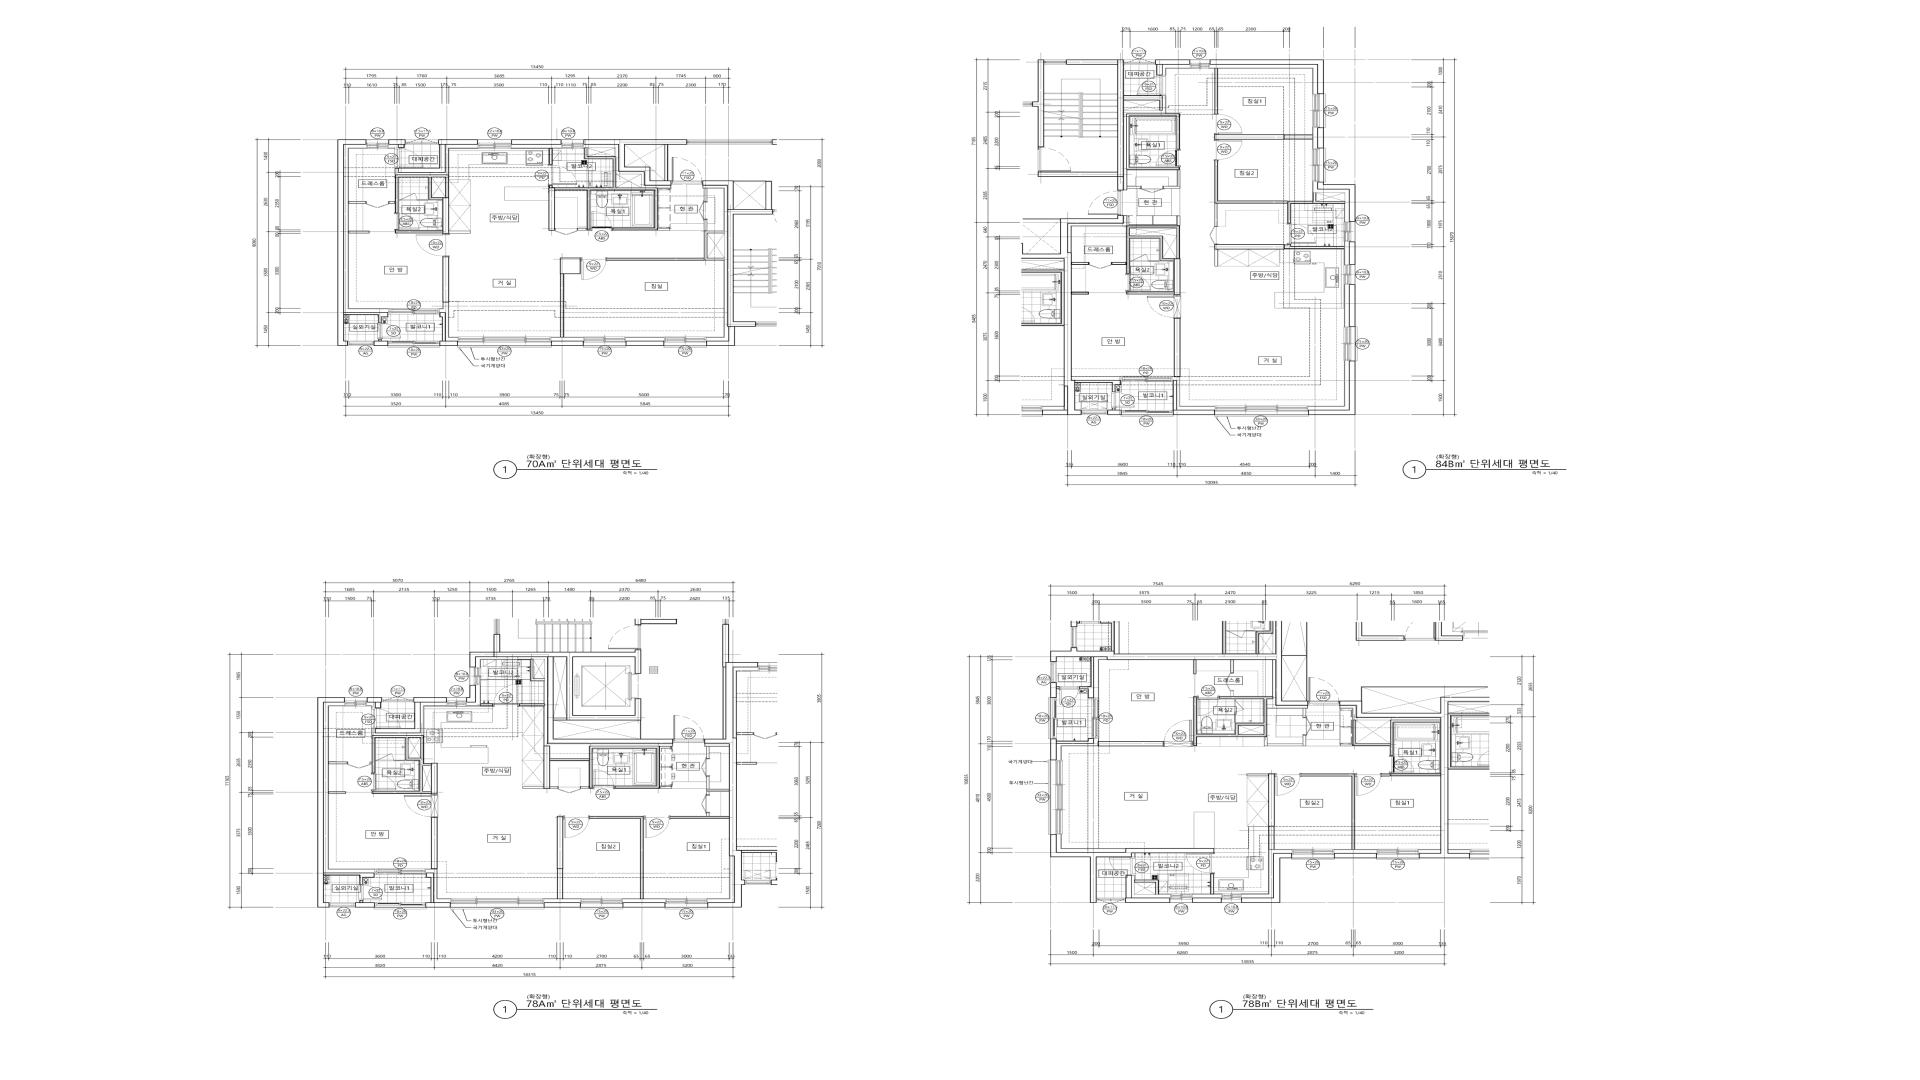door: (673, 715, 704, 741), (671, 157, 703, 183), (608, 625, 641, 650), (1088, 190, 1121, 215), (404, 794, 438, 818), (1163, 720, 1193, 746), (1308, 678, 1340, 703), (1147, 295, 1180, 319), (1038, 148, 1071, 171), (415, 233, 448, 257), (549, 165, 578, 186), (1185, 853, 1215, 874), (493, 684, 520, 707), (563, 816, 589, 839), (644, 816, 670, 839), (1288, 223, 1316, 244), (1215, 140, 1242, 161), (1215, 113, 1242, 135), (1137, 75, 1166, 95), (394, 148, 423, 167), (580, 258, 607, 280), (1275, 774, 1302, 795), (1356, 774, 1382, 795), (372, 708, 400, 728), (1109, 857, 1135, 876), (591, 211, 613, 231), (1197, 696, 1220, 716), (1156, 149, 1180, 167), (1390, 756, 1414, 774), (1126, 274, 1151, 291), (592, 770, 615, 789), (372, 774, 396, 791), (360, 885, 382, 901), (1112, 392, 1134, 407), (378, 323, 401, 339), (1059, 687, 1079, 704), (1225, 673, 1234, 691), (347, 762, 371, 769), (365, 202, 389, 208), (558, 786, 580, 793), (1089, 262, 1112, 269), (1141, 186, 1163, 193), (555, 228, 578, 235), (702, 758, 709, 777), (699, 202, 707, 220), (1303, 717, 1311, 736), (376, 753, 393, 761), (702, 795, 709, 812), (400, 193, 417, 200), (1209, 227, 1217, 244), (1130, 255, 1149, 261), (1234, 699, 1244, 712)
wall: (469, 634, 673, 744), (1051, 621, 1308, 705), (670, 624, 741, 907), (476, 657, 673, 758), (607, 186, 728, 342), (1340, 698, 1448, 858), (1038, 59, 1163, 190), (1060, 215, 1124, 415), (318, 698, 375, 907), (703, 181, 773, 345), (1051, 835, 1215, 903), (338, 140, 388, 345), (555, 145, 671, 231), (323, 703, 375, 873), (1215, 161, 1345, 223), (543, 746, 659, 789), (1112, 225, 1180, 295), (584, 140, 687, 186), (589, 816, 644, 899), (1302, 774, 1356, 849), (1193, 696, 1274, 746), (1124, 95, 1166, 190), (1209, 59, 1324, 94), (372, 736, 438, 794), (1211, 65, 1317, 94), (1126, 113, 1180, 170), (394, 140, 477, 175), (375, 698, 447, 733), (1241, 853, 1292, 903), (1308, 361, 1356, 415), (1241, 849, 1292, 898), (372, 703, 447, 736), (1267, 659, 1308, 717), (1068, 215, 1127, 253), (389, 175, 448, 214), (551, 274, 583, 342), (1308, 361, 1349, 410), (1317, 182, 1356, 222), (1172, 380, 1215, 415), (1340, 705, 1441, 720), (1312, 182, 1349, 222), (1172, 377, 1215, 410), (708, 856, 735, 903), (1125, 876, 1170, 903), (1056, 835, 1126, 852), (1282, 655, 1307, 700), (1033, 59, 1044, 148), (512, 145, 562, 165), (1051, 738, 1095, 761), (1056, 738, 1098, 761), (426, 873, 451, 907), (1131, 876, 1170, 898), (426, 869, 451, 902), (439, 302, 458, 342), (1215, 244, 1345, 249), (439, 313, 458, 345), (1155, 59, 1191, 75), (556, 816, 563, 899), (1215, 135, 1312, 140), (1269, 774, 1275, 849), (1095, 657, 1106, 698), (707, 233, 725, 258), (1265, 736, 1307, 746), (707, 777, 729, 795), (1174, 318, 1180, 377), (704, 744, 729, 758), (1134, 880, 1159, 894), (1097, 741, 1163, 746), (560, 257, 580, 274), (431, 818, 438, 869), (1163, 170, 1180, 189), (530, 659, 545, 680), (467, 684, 480, 707), (549, 186, 555, 231), (1163, 65, 1191, 75), (1349, 285, 1356, 327), (634, 618, 676, 625), (587, 148, 616, 157), (512, 140, 562, 145), (409, 737, 421, 758), (443, 257, 448, 302), (622, 902, 665, 907), (1344, 285, 1349, 327), (1335, 853, 1377, 858), (543, 902, 580, 907), (394, 229, 443, 233), (443, 198, 448, 233), (1215, 69, 1218, 113), (467, 684, 476, 703), (622, 899, 665, 903), (1335, 849, 1377, 853), (367, 698, 382, 708), (1349, 241, 1356, 265), (1192, 898, 1221, 903), (626, 338, 663, 342), (626, 342, 663, 345), (1317, 128, 1324, 149), (1050, 683, 1059, 698), (355, 901, 375, 907), (1072, 377, 1121, 380), (551, 342, 583, 345), (1344, 241, 1349, 265), (389, 140, 405, 148), (1192, 894, 1221, 898), (1312, 128, 1317, 149), (1108, 407, 1121, 415), (543, 899, 580, 902), (373, 339, 388, 345), (665, 145, 667, 181), (1419, 849, 1441, 853), (1215, 249, 1218, 266), (520, 704, 545, 707), (1215, 203, 1217, 227), (448, 231, 471, 233), (348, 231, 369, 233), (1247, 774, 1269, 777), (522, 786, 543, 789), (1230, 659, 1234, 673), (1211, 874, 1213, 894), (348, 202, 365, 204), (733, 181, 766, 182), (367, 703, 375, 708), (1193, 659, 1196, 674), (389, 145, 398, 149), (554, 717, 567, 720), (1340, 744, 1353, 746), (480, 704, 493, 707), (659, 786, 671, 789), (640, 720, 641, 738), (1178, 216, 1180, 225), (580, 786, 589, 789), (1230, 691, 1234, 696), (550, 786, 558, 789), (1131, 853, 1135, 857), (393, 760, 405, 761), (417, 199, 427, 200), (1234, 712, 1236, 723), (707, 812, 709, 816), (371, 762, 372, 765), (1149, 261, 1159, 261)
window: (1048, 761, 1063, 835), (450, 899, 545, 910), (458, 338, 551, 348), (1215, 406, 1308, 417), (665, 898, 708, 910), (375, 869, 426, 878), (583, 338, 626, 348), (663, 338, 707, 348), (1312, 94, 1325, 128), (1344, 327, 1357, 361), (580, 899, 622, 910), (1292, 849, 1335, 860), (1377, 849, 1419, 860), (1312, 149, 1325, 182), (375, 902, 426, 910), (388, 342, 440, 348), (1121, 410, 1174, 417), (1048, 698, 1056, 738), (477, 140, 512, 149), (1121, 377, 1172, 382), (388, 309, 439, 314), (1092, 698, 1098, 738), (1344, 222, 1356, 241), (1344, 265, 1356, 285), (405, 138, 438, 145), (381, 696, 413, 703), (1124, 58, 1155, 65), (344, 698, 367, 707), (562, 140, 584, 149), (367, 140, 389, 149), (1170, 894, 1192, 903), (447, 698, 467, 707), (1191, 59, 1211, 69), (1097, 898, 1125, 905), (1221, 894, 1241, 903), (469, 667, 480, 684), (1081, 410, 1108, 415), (1044, 59, 1067, 65), (1051, 662, 1056, 683), (330, 903, 355, 907), (348, 342, 373, 345)
